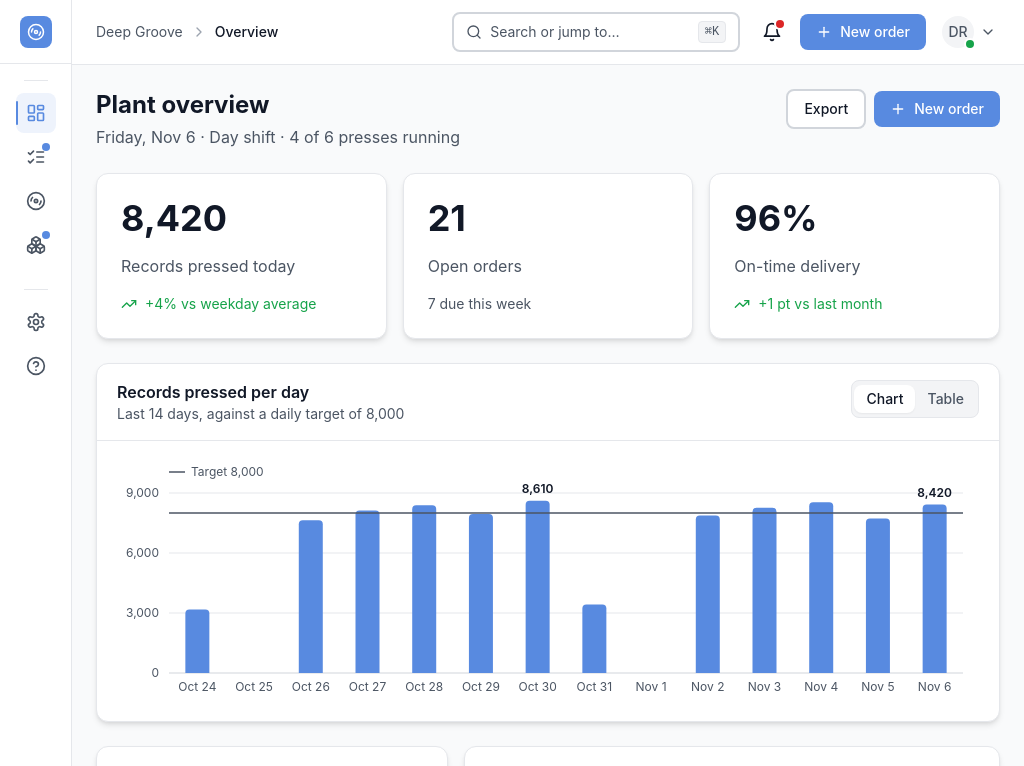
Test case: AppShellExample (pressing plant) › flags the low-stock materials with a reorder action
The width and height of the screenshot is (1024, 766).
Click the 4th button named "Inventory".
click(36, 245)  # box [16,225,56,265]
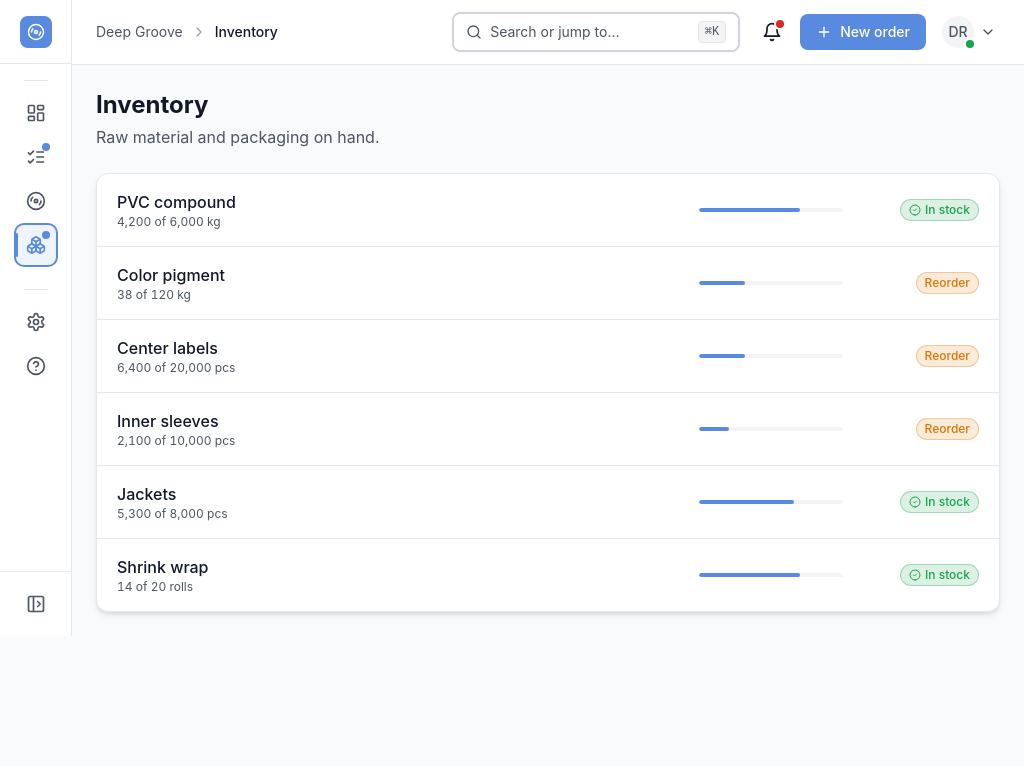
Now the number of buttons "Reorder" is 3
Click the button "Reorder" in the row of "Color pigment".
click(947, 283)  # box [916,272,979,294]
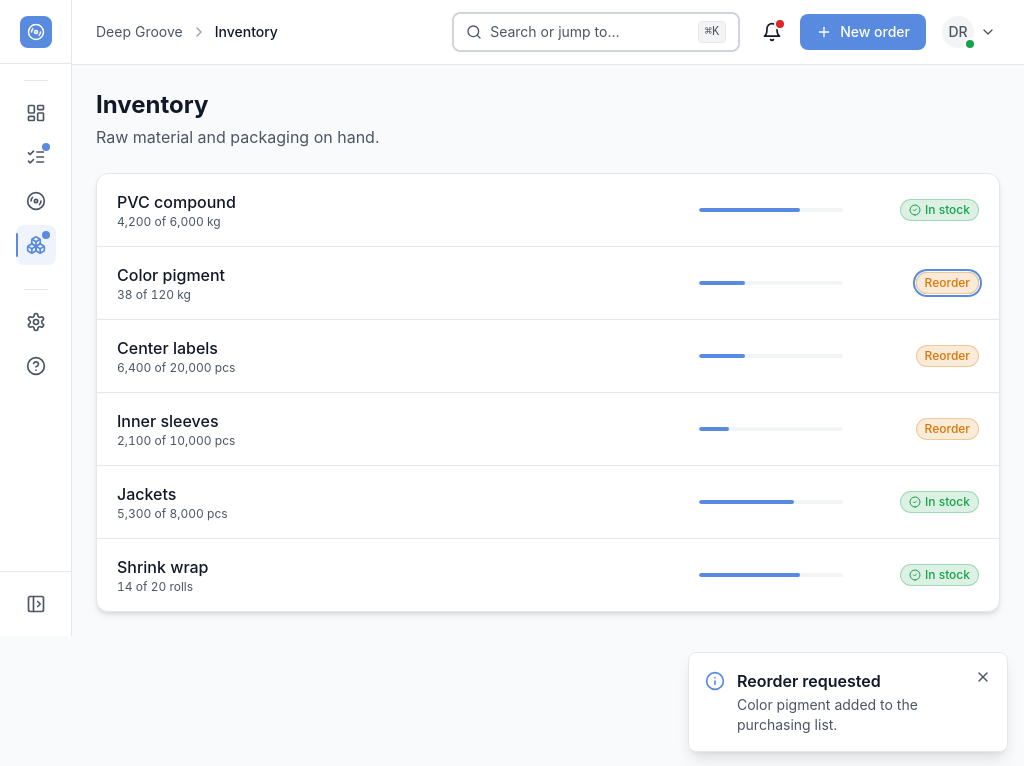
Now the text "Reorder requested" is shown, box [737,671,881,691]
